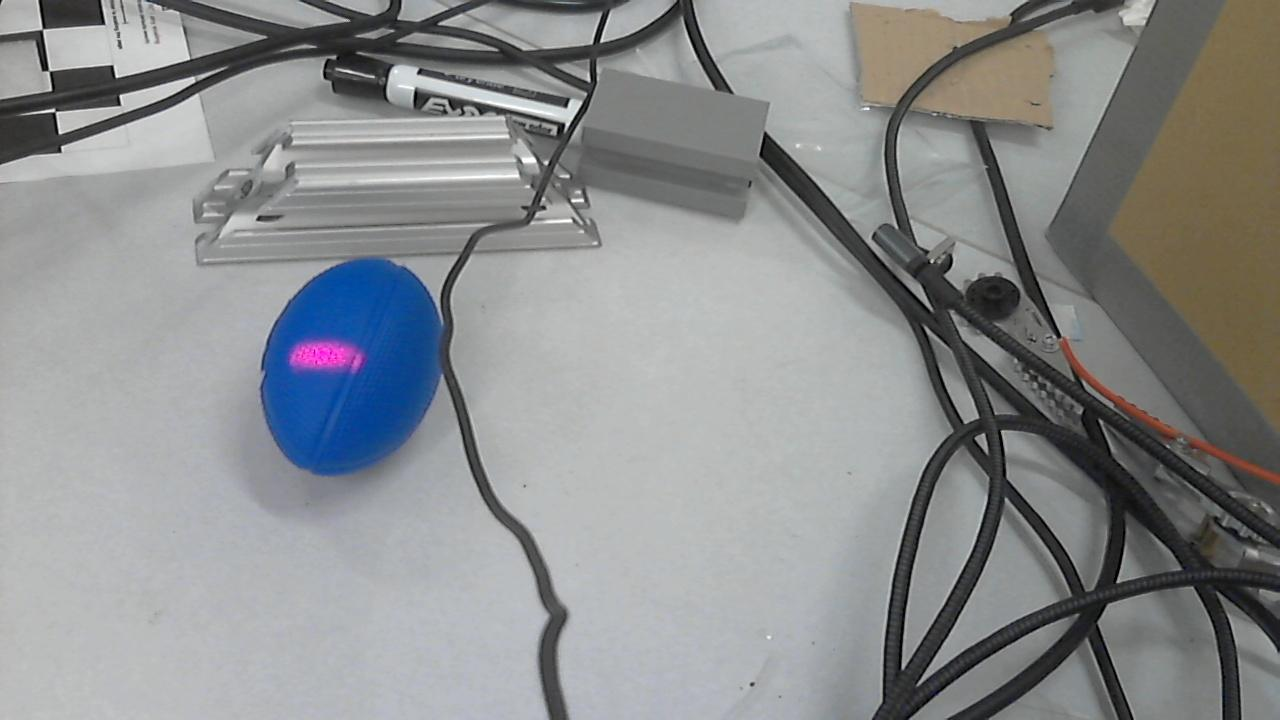Object toy football - Material foam - Color blue - Pdfname VT1ffZoLOnKv: (276, 330, 384, 377)
